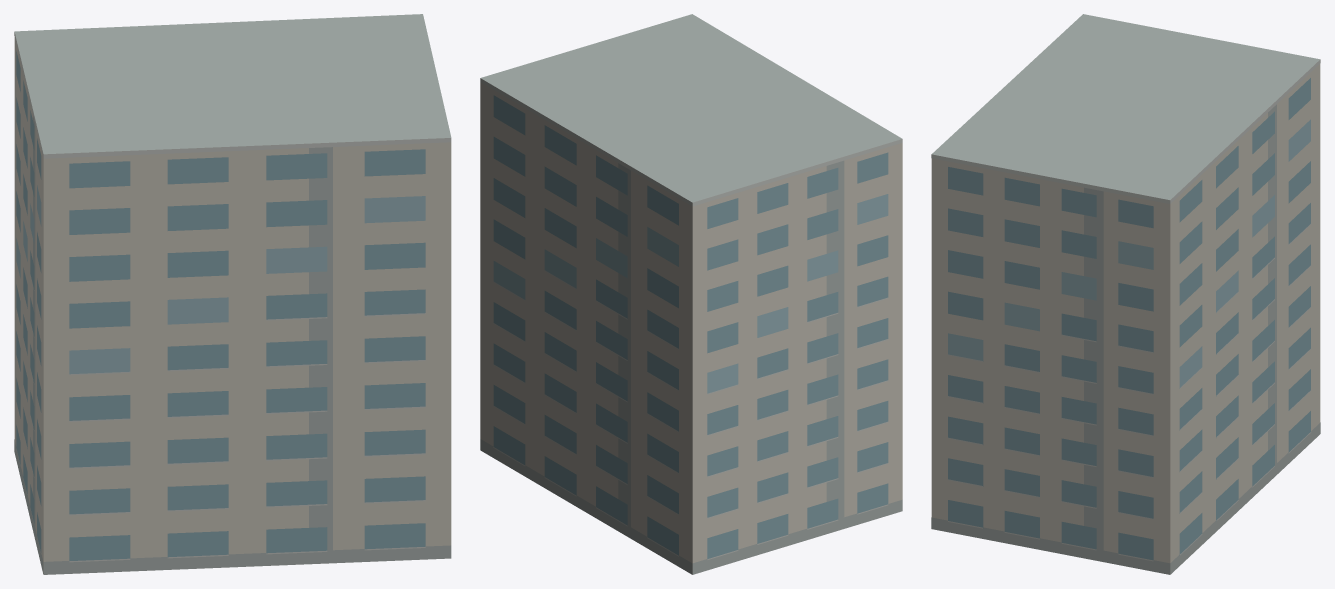
Rendered from residential-efdedc43-03ed-446e-a801-4c8e7e11d00d.glb.
3 views of the same model, side by side, from view 1: azimuth 30°, elevation 25°; view 2: azimuth 150°, elevation 25°; view 3: azimuth 270°, elevation 25° (orthographic). The views are drawn at different scales.
Parts seen in each view (by area): view 1: residential-efdedc43-03ed-446e-a801-4c8e7e11d00d.tmp; view 2: residential-efdedc43-03ed-446e-a801-4c8e7e11d00d.tmp; view 3: residential-efdedc43-03ed-446e-a801-4c8e7e11d00d.tmp.
Boxes of the visible parts, x1,y1,x2,y2 form: residential-efdedc43-03ed-446e-a801-4c8e7e11d00d.tmp: (14,14,451,574); residential-efdedc43-03ed-446e-a801-4c8e7e11d00d.tmp: (480,14,902,574); residential-efdedc43-03ed-446e-a801-4c8e7e11d00d.tmp: (931,14,1320,574).
Size of the model in its own units: 24.52 by 23 by 21.65.
